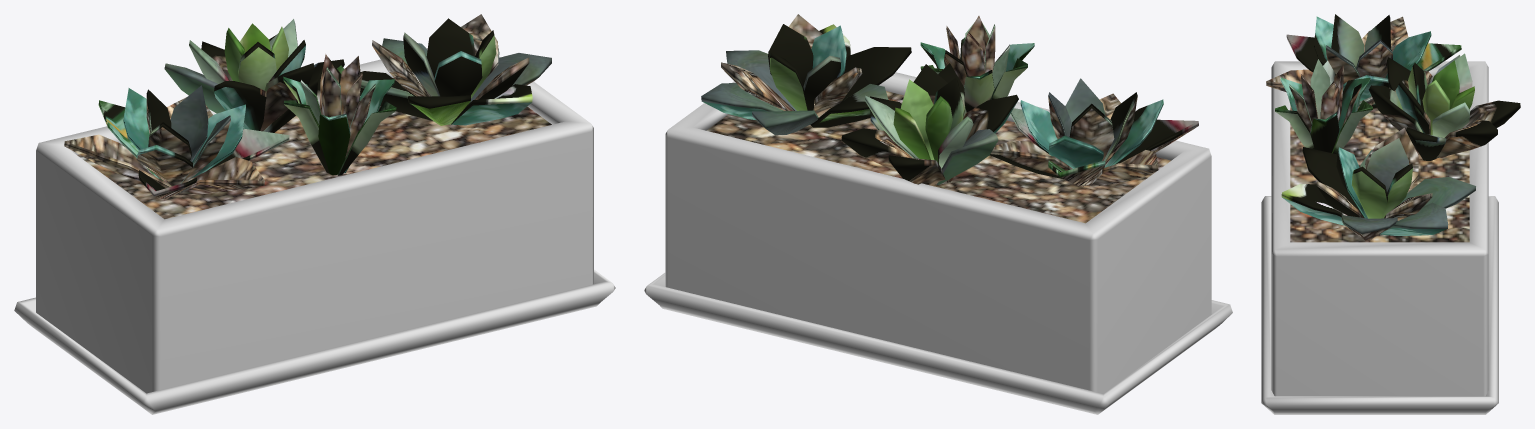
The model's file is Succulent_Planter_Ceramic.fbx.
The picture shows the model from 3 angles, left to right: view 1: azimuth 30°, elevation 25°; view 2: azimuth 150°, elevation 25°; view 3: azimuth 270°, elevation 25°; orthographic projection. The views are drawn at different scales.
Parts seen in each view (by area): view 1: Succulent_Planter_Ceramic_Pot, Succulent_Planter_Ceramic_Plants; view 2: Succulent_Planter_Ceramic_Pot, Succulent_Planter_Ceramic_Plants; view 3: Succulent_Planter_Ceramic_Pot, Succulent_Planter_Ceramic_Plants.
Part boxes in pixels (x1,y1,x2,y2): Succulent_Planter_Ceramic_Pot: (14, 48, 615, 414); Succulent_Planter_Ceramic_Plants: (64, 14, 551, 219); Succulent_Planter_Ceramic_Pot: (644, 72, 1232, 414); Succulent_Planter_Ceramic_Plants: (701, 14, 1198, 223); Succulent_Planter_Ceramic_Pot: (1261, 61, 1498, 414); Succulent_Planter_Ceramic_Plants: (1266, 14, 1520, 242).
Size of the model in its own units: 26.87 by 15.24 by 14.33.
